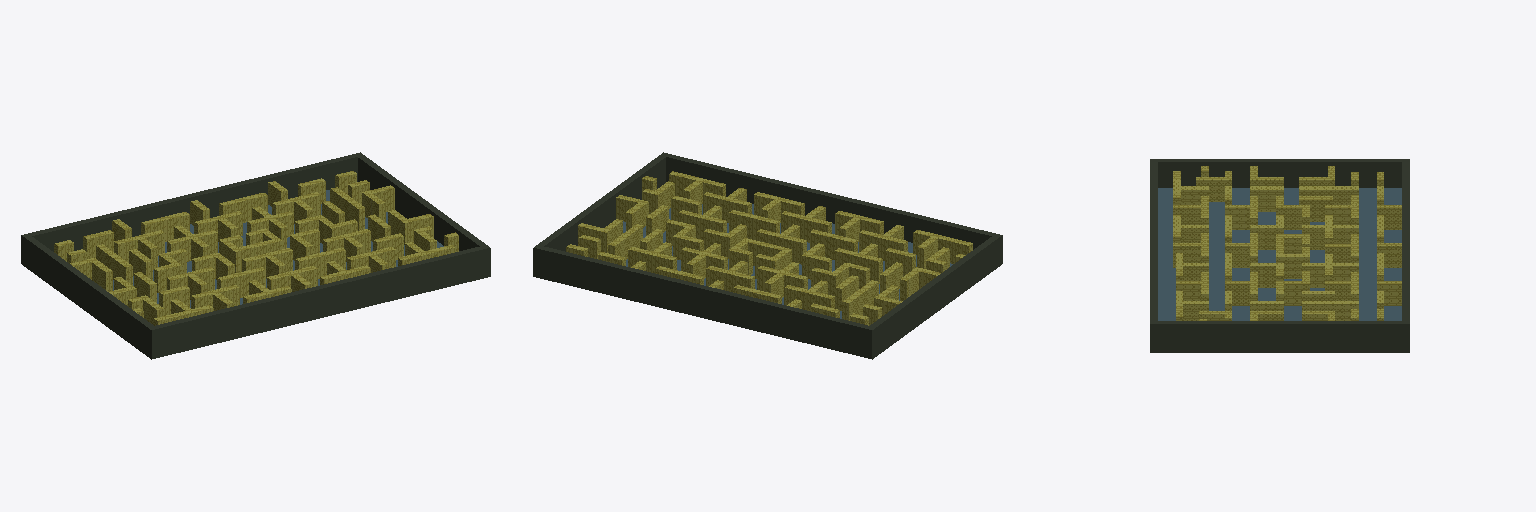
3 views of the same model, side by side, from view 1: azimuth 30°, elevation 25°; view 2: azimuth 150°, elevation 25°; view 3: azimuth 270°, elevation 25° (orthographic).
Visible parts, largest first — view 1: Cube.005, Cube, Cube.001, Cube.002, Cube.003, Plane; view 2: Cube.005, Cube.001, Cube, Cube.002, Cube.003, Plane; view 3: Cube.005, Plane, Cube.003, Cube.002, Cube, Cube.001.
Boxes of the visible parts, x1=… form: Cube.005: x1=67, y1=171, x2=458, y2=325; Cube: x1=148, y1=245, x2=490, y2=359; Cube.001: x1=21, y1=152, x2=362, y2=266; Cube.002: x1=25, y1=236, x2=153, y2=356; Cube.003: x1=358, y1=155, x2=485, y2=250; Plane: x1=113, y1=190, x2=443, y2=307; Cube.005: x1=566, y1=171, x2=972, y2=325; Cube.001: x1=533, y1=245, x2=875, y2=359; Cube: x1=661, y1=152, x2=1002, y2=266; Cube.002: x1=870, y1=236, x2=998, y2=356; Cube.003: x1=538, y1=155, x2=665, y2=251; Plane: x1=623, y1=204, x2=952, y2=318; Cube.005: x1=1173, y1=166, x2=1401, y2=320; Plane: x1=1158, y1=188, x2=1401, y2=320; Cube.003: x1=1158, y1=321, x2=1401, y2=352; Cube.002: x1=1158, y1=159, x2=1401, y2=187; Cube: x1=1150, y1=159, x2=1157, y2=352; Cube.001: x1=1402, y1=159, x2=1409, y2=352.
Size of the model in its own units: 152 by 12.54 by 101.
Materials: 3 (3 with a texture image).